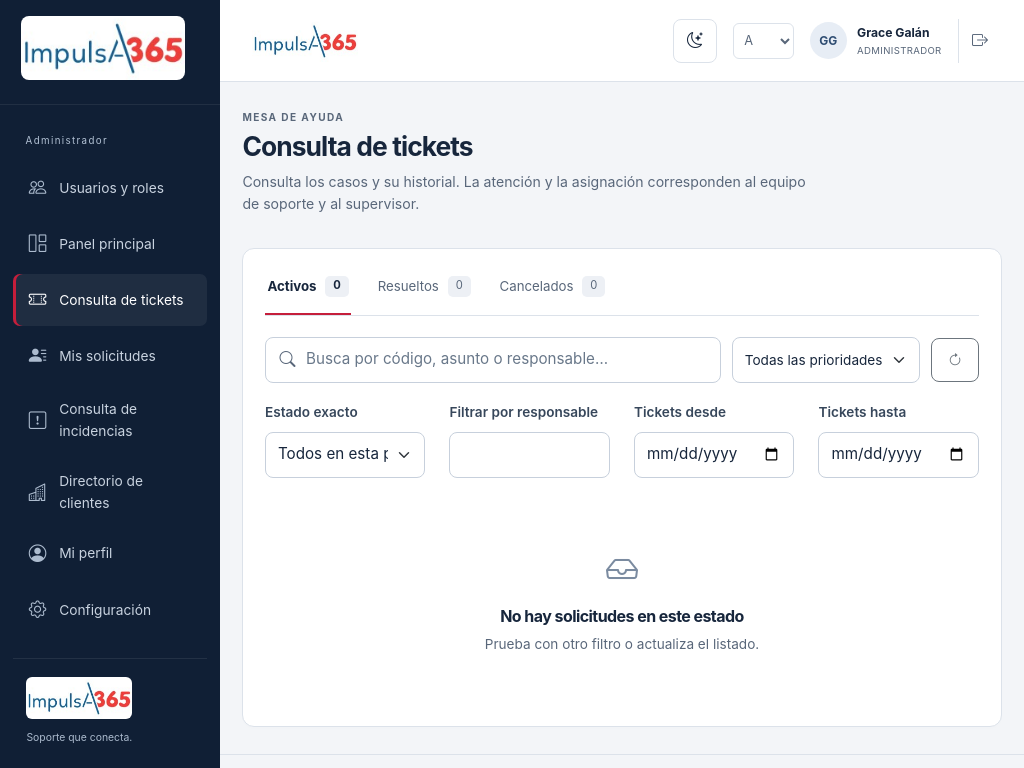
Test: Migración React › elimina la sesión al salir y vuelve a proteger la ruta
Click the button named "Cerrar sesión" at (980, 40), box 958,18 -> 1002,62
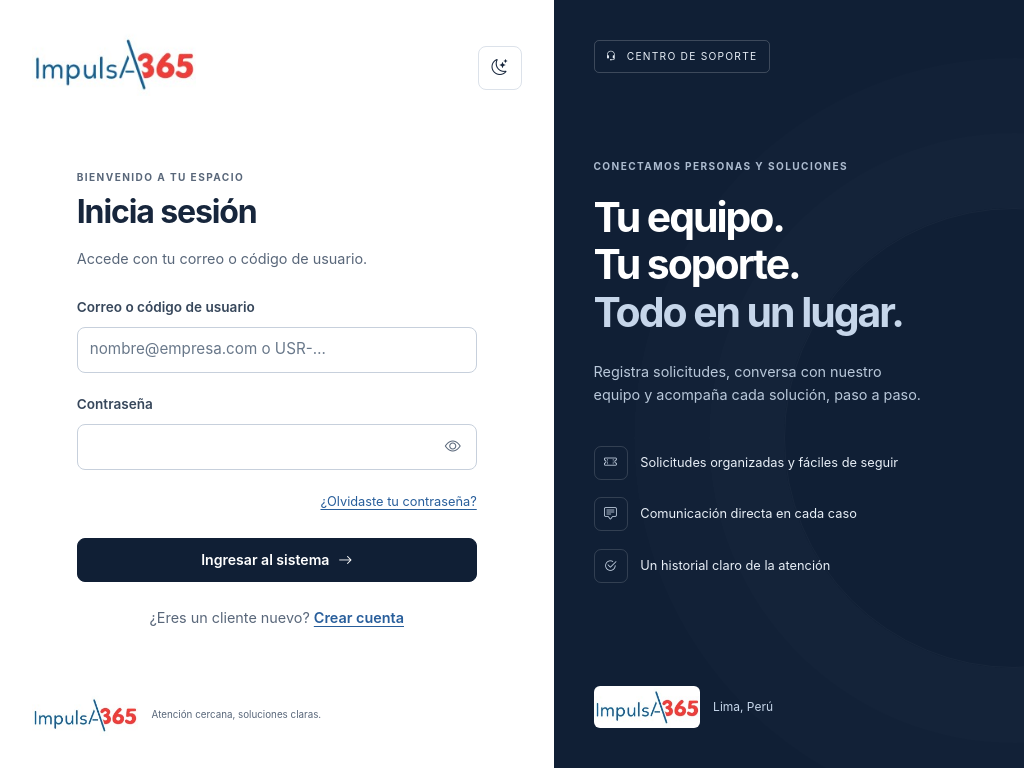
Expected: the heading "Inicia sesión" is shown, 77,192 -> 257,231
